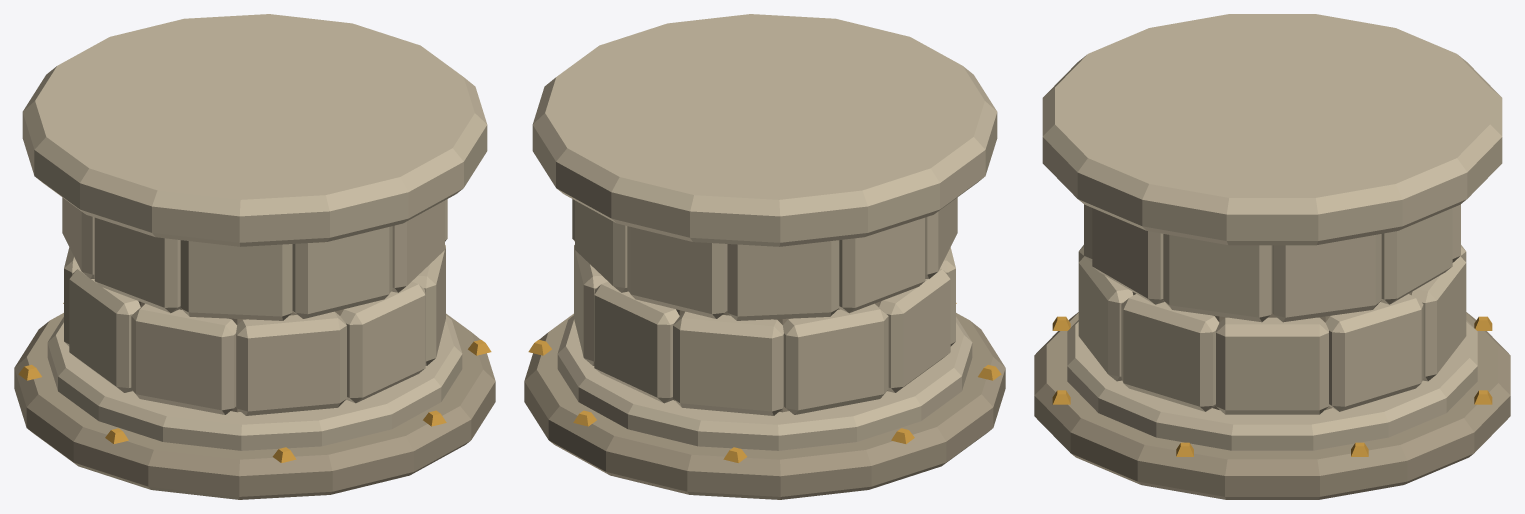
Rendered from CannonBase.obj.
The picture shows the model from 3 angles, left to right: view 1: azimuth 30°, elevation 25°; view 2: azimuth 150°, elevation 25°; view 3: azimuth 270°, elevation 25°; orthographic projection.
Visible parts, largest first — view 1: CannonBase; view 2: CannonBase; view 3: CannonBase.
Part boxes in pixels (left/top/right/bottom): CannonBase: left=14, top=14, right=495, bottom=499; CannonBase: left=524, top=14, right=1005, bottom=499; CannonBase: left=1034, top=14, right=1510, bottom=499.
Bounding box in the file's own units: 1.14 × 0.78 × 1.14.
